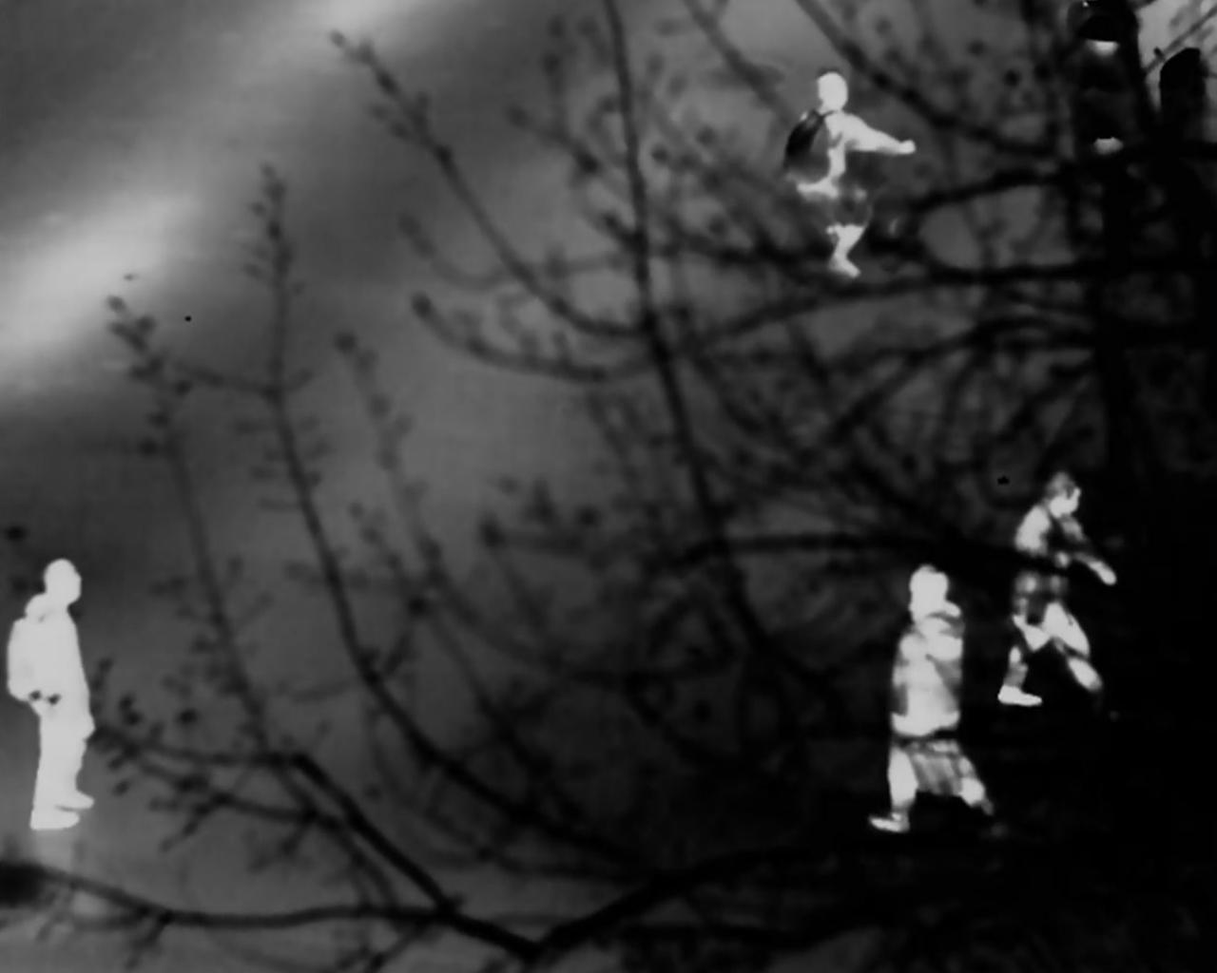person: (872, 564, 990, 838), (995, 478, 1123, 721), (786, 65, 914, 291), (2, 558, 99, 837)
